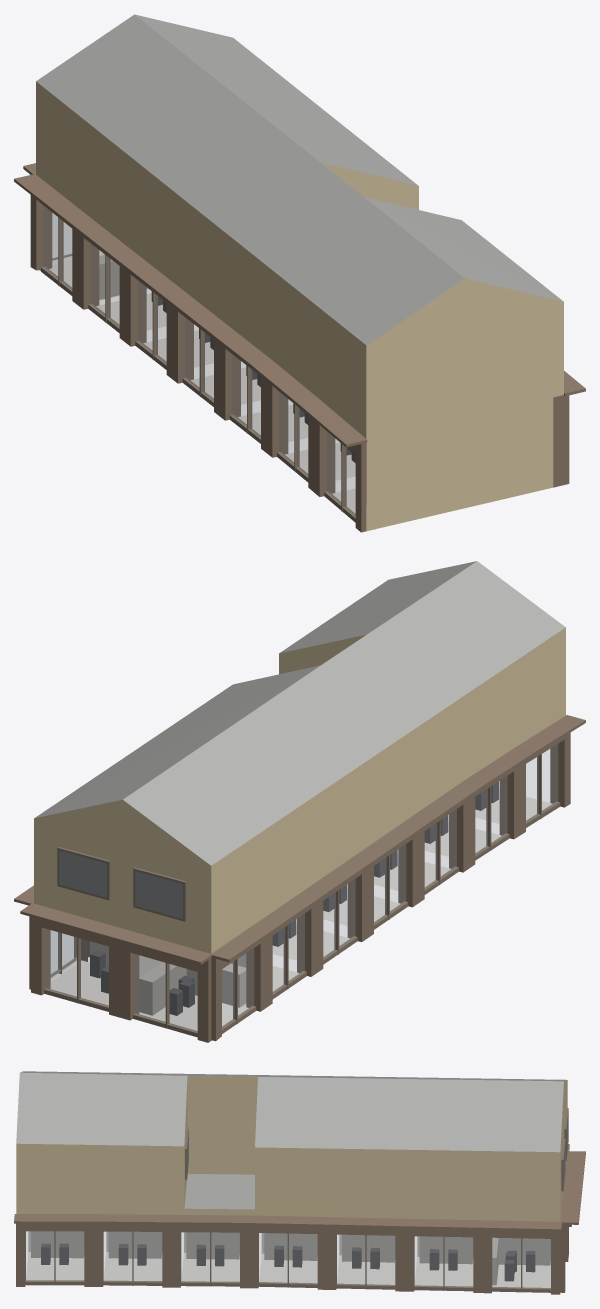
The model's file is d12-nonbei-w138670891-row.glb.
3 renders of one model, top to bottom at view 1: azimuth 30°, elevation 25°; view 2: azimuth 150°, elevation 25°; view 3: azimuth 270°, elevation 25°, orthographic. The views are drawn at different scales.
Parts seen in each view (by area): view 1: INFERRED_facade.001, INFERRED_ground.001; view 2: INFERRED_facade.001, INFERRED_ground.001; view 3: INFERRED_facade.001, INFERRED_ground.001.
Part boxes in pixels (box(x1,y1,x2,y2)): INFERRED_facade.001: box(14, 14, 585, 532); INFERRED_ground.001: box(43, 206, 355, 514); INFERRED_facade.001: box(14, 561, 585, 1042); INFERRED_ground.001: box(46, 744, 557, 1031); INFERRED_facade.001: box(14, 1071, 585, 1294); INFERRED_ground.001: box(26, 1231, 550, 1288).
Size of the model in its own units: 7.45 by 6.4 by 18.66.
Materials: 3 (1 with a texture image).
